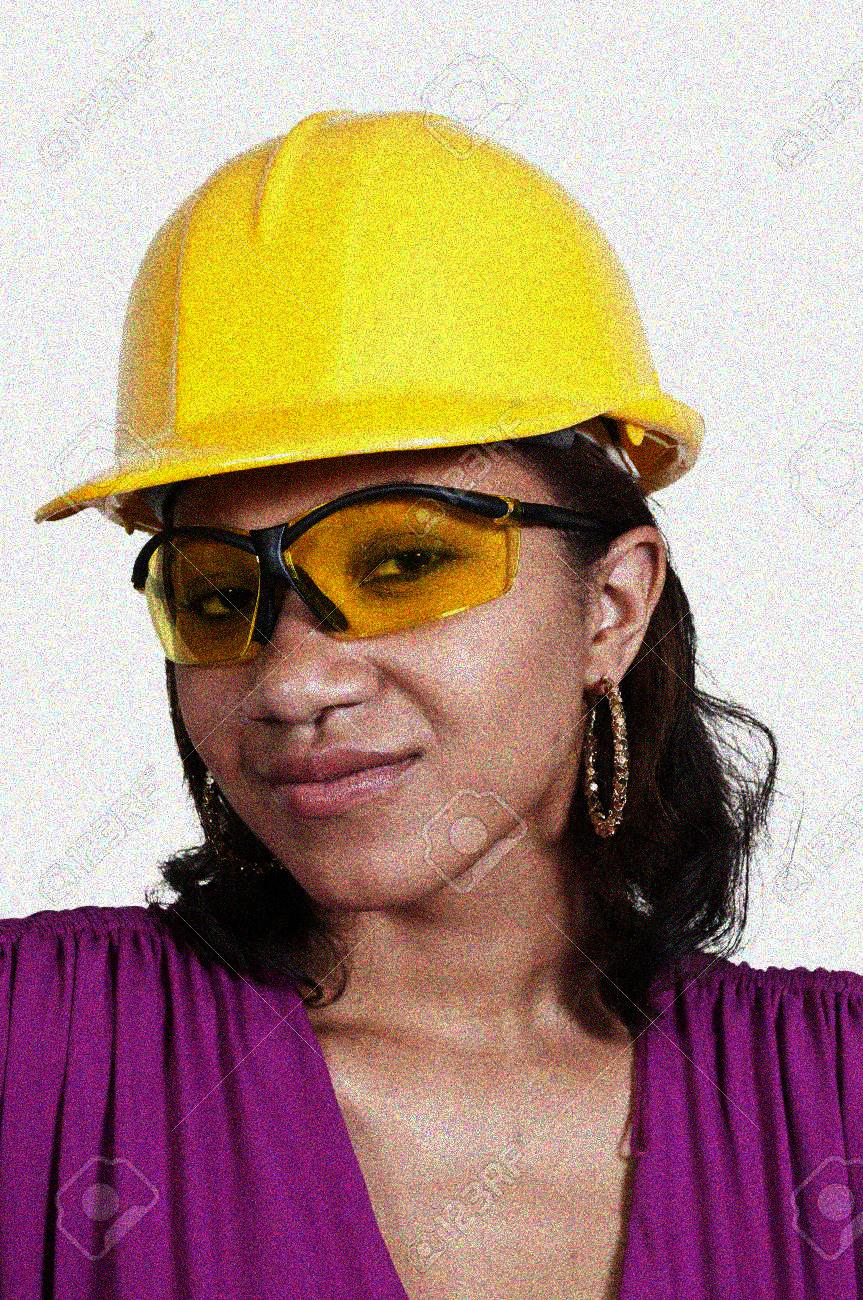helmet: (38, 103, 707, 923)
